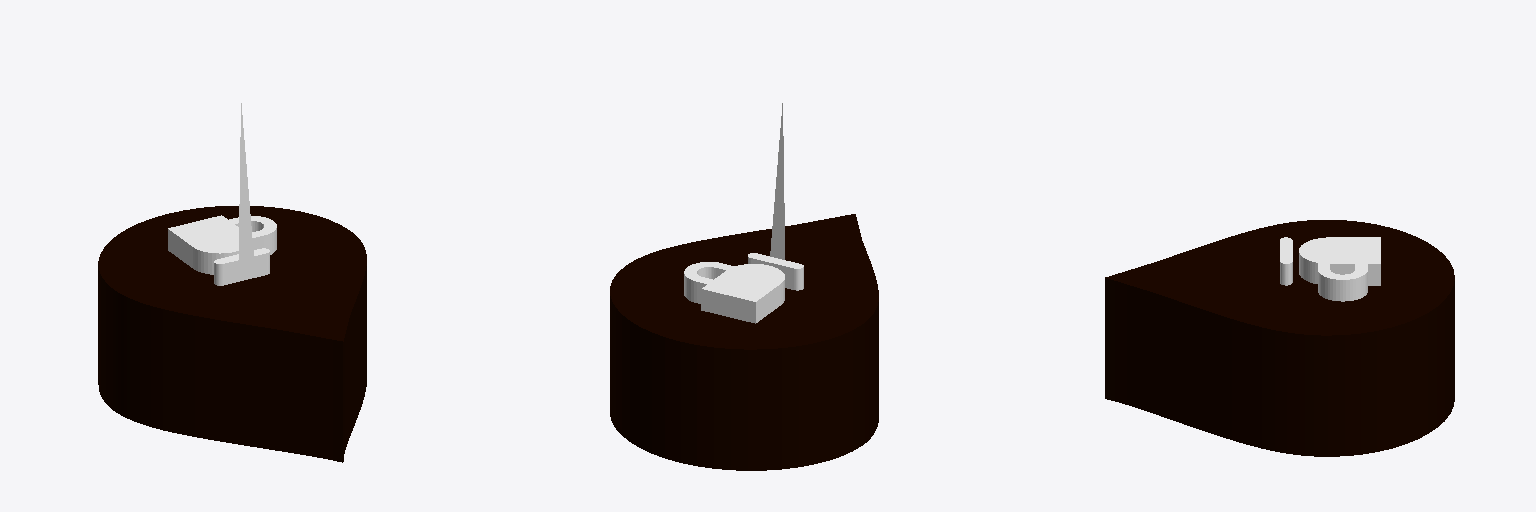
File: cafe.obj
The picture shows the model from 3 angles: view 1: azimuth 30°, elevation 25°; view 2: azimuth 150°, elevation 25°; view 3: azimuth 270°, elevation 25°; orthographic projection.
Visible parts, largest first — view 1: Curve, Curve.001, Curve.005; view 2: Curve, Curve.001, Curve.005; view 3: Curve, Curve.001, Curve.005.
Boxes of the visible parts, box(x1,y1,x2,y2) form: Curve: box(98, 253, 366, 462); Curve.001: box(98, 206, 365, 305); Curve.005: box(168, 103, 276, 285); Curve: box(610, 214, 878, 470); Curve.001: box(610, 249, 877, 349); Curve.005: box(684, 103, 803, 323); Curve: box(1105, 225, 1454, 456); Curve.001: box(1275, 220, 1454, 335); Curve.005: box(1280, 237, 1380, 301).
Bounding box in the file's own units: 0.0062 × 0.008 × 0.0078.